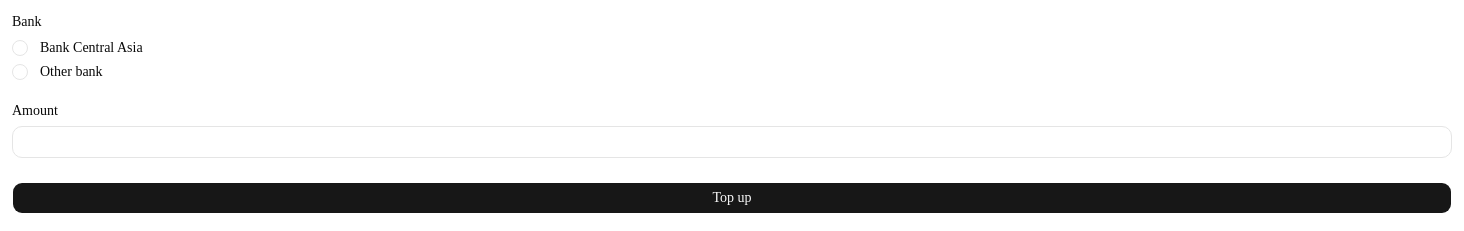
TopupForm › shows payment instructions after success
Click the button "Top up" at (732, 198), box [12,182,1452,214]
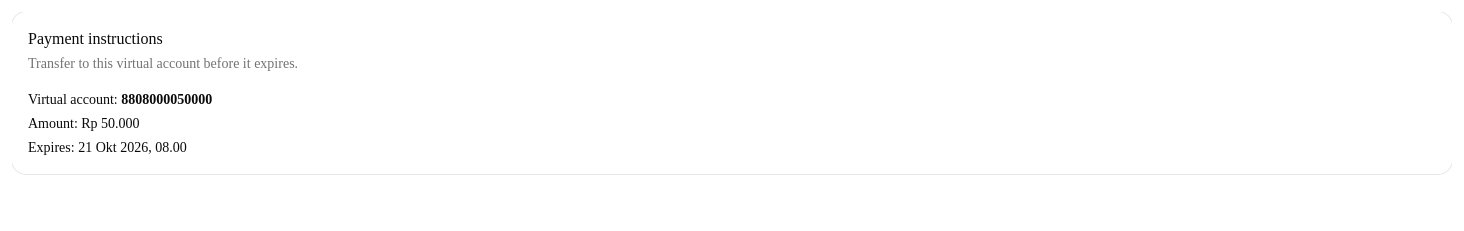
Expected: the text "Payment instructions" is shown, [28,30,163,47]
Expected: the text "8808000050000" is shown, [121,92,212,107]
